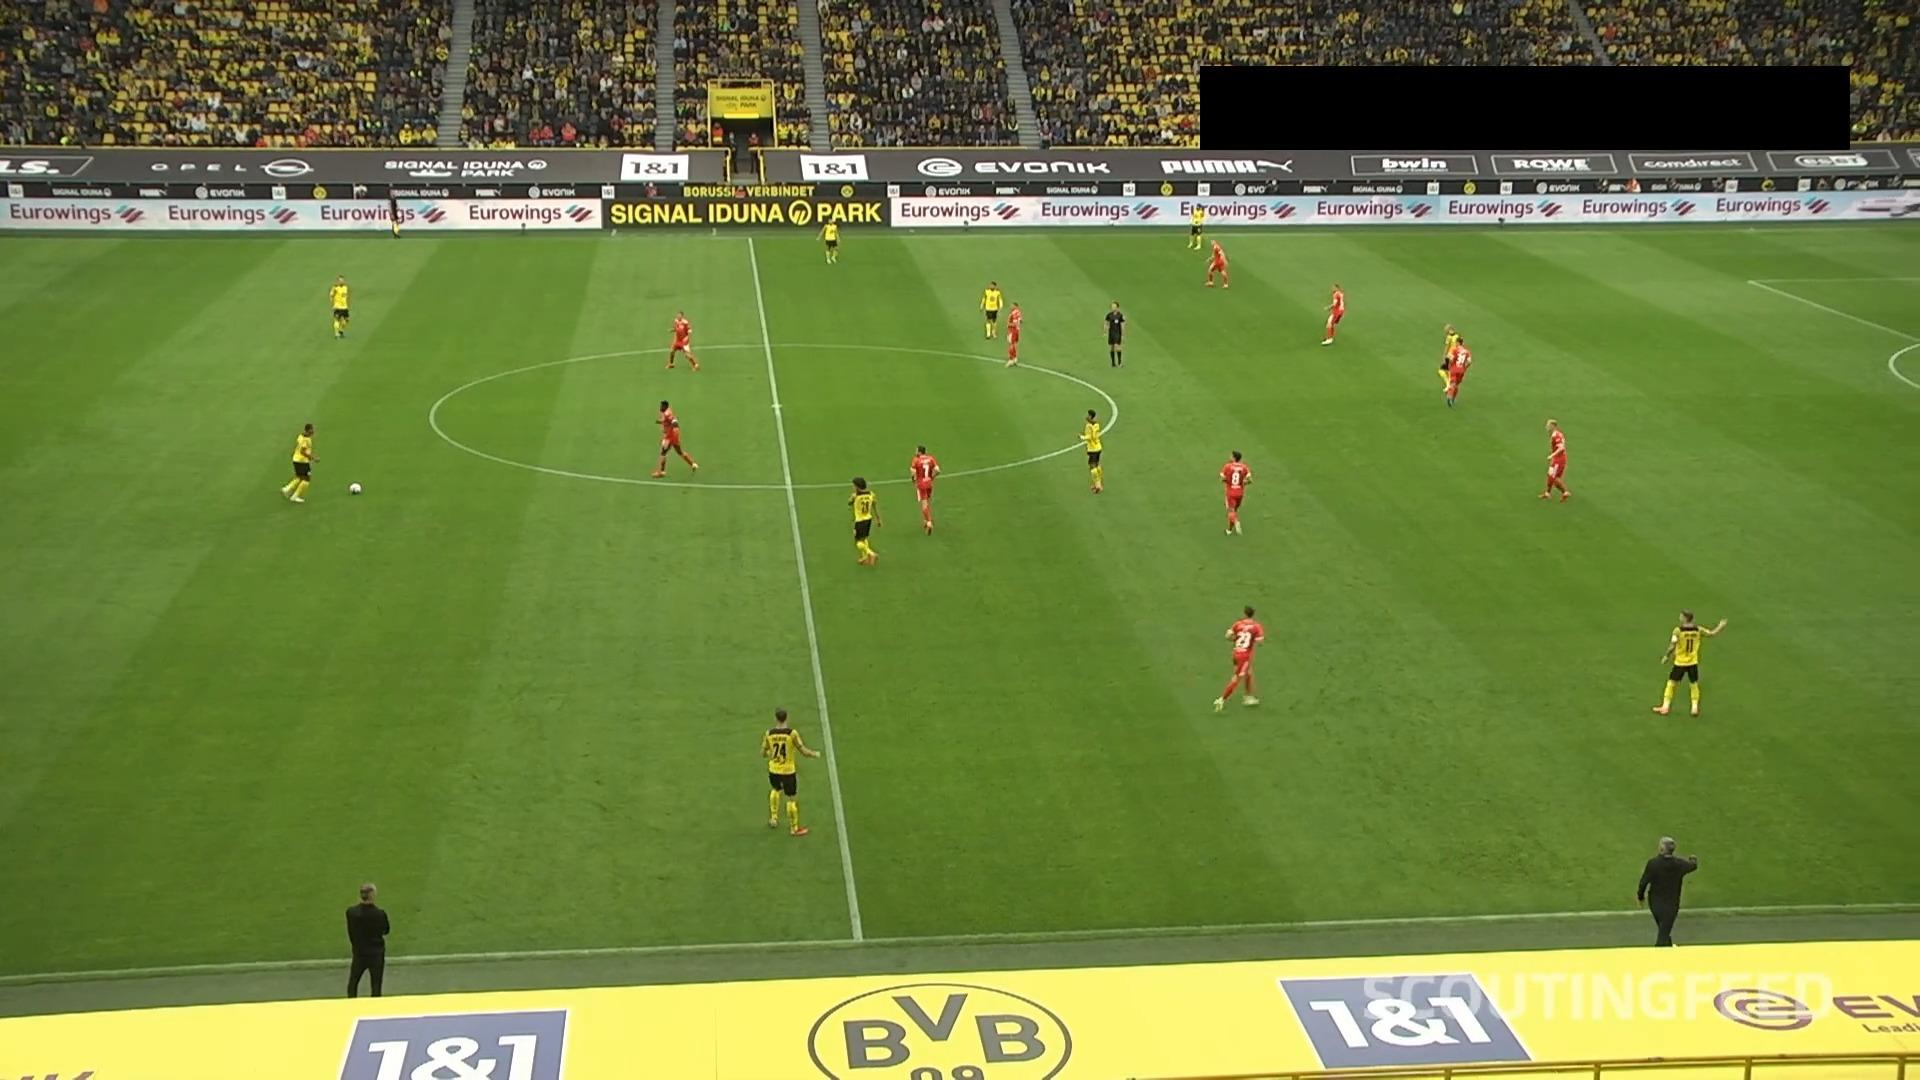ball: (347, 480, 363, 497)
